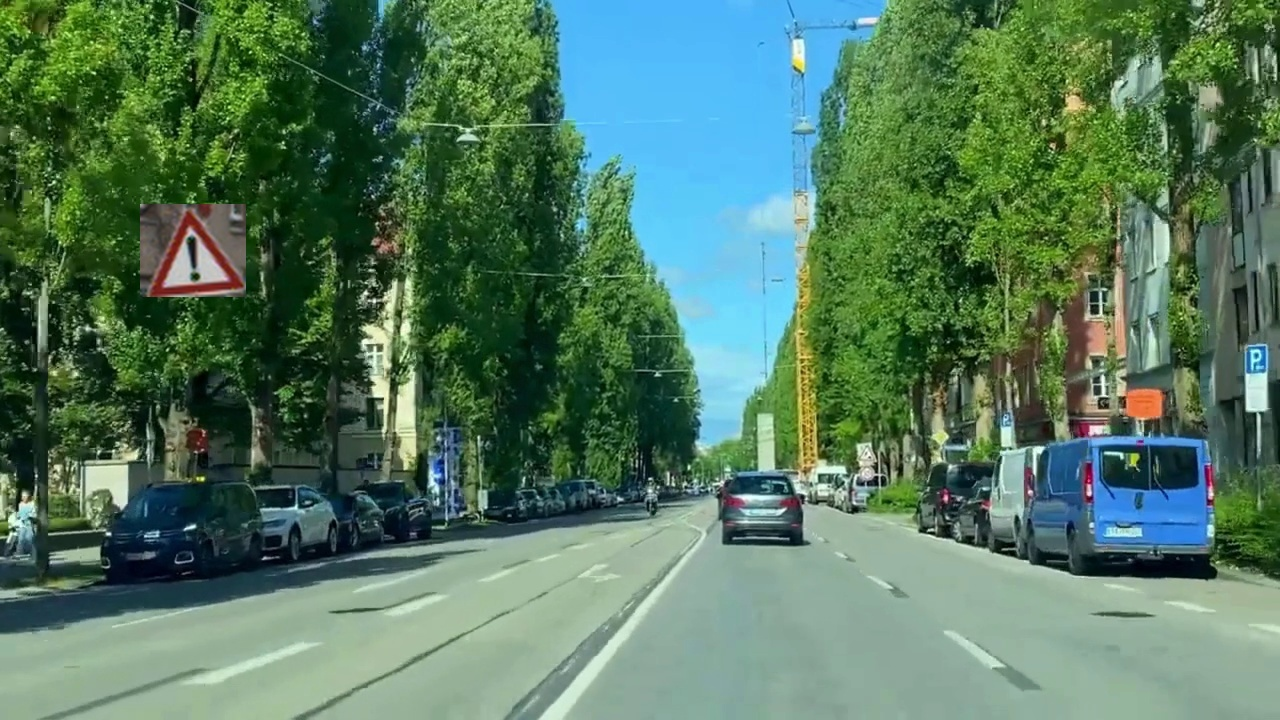Caution: (140, 204, 246, 297)
